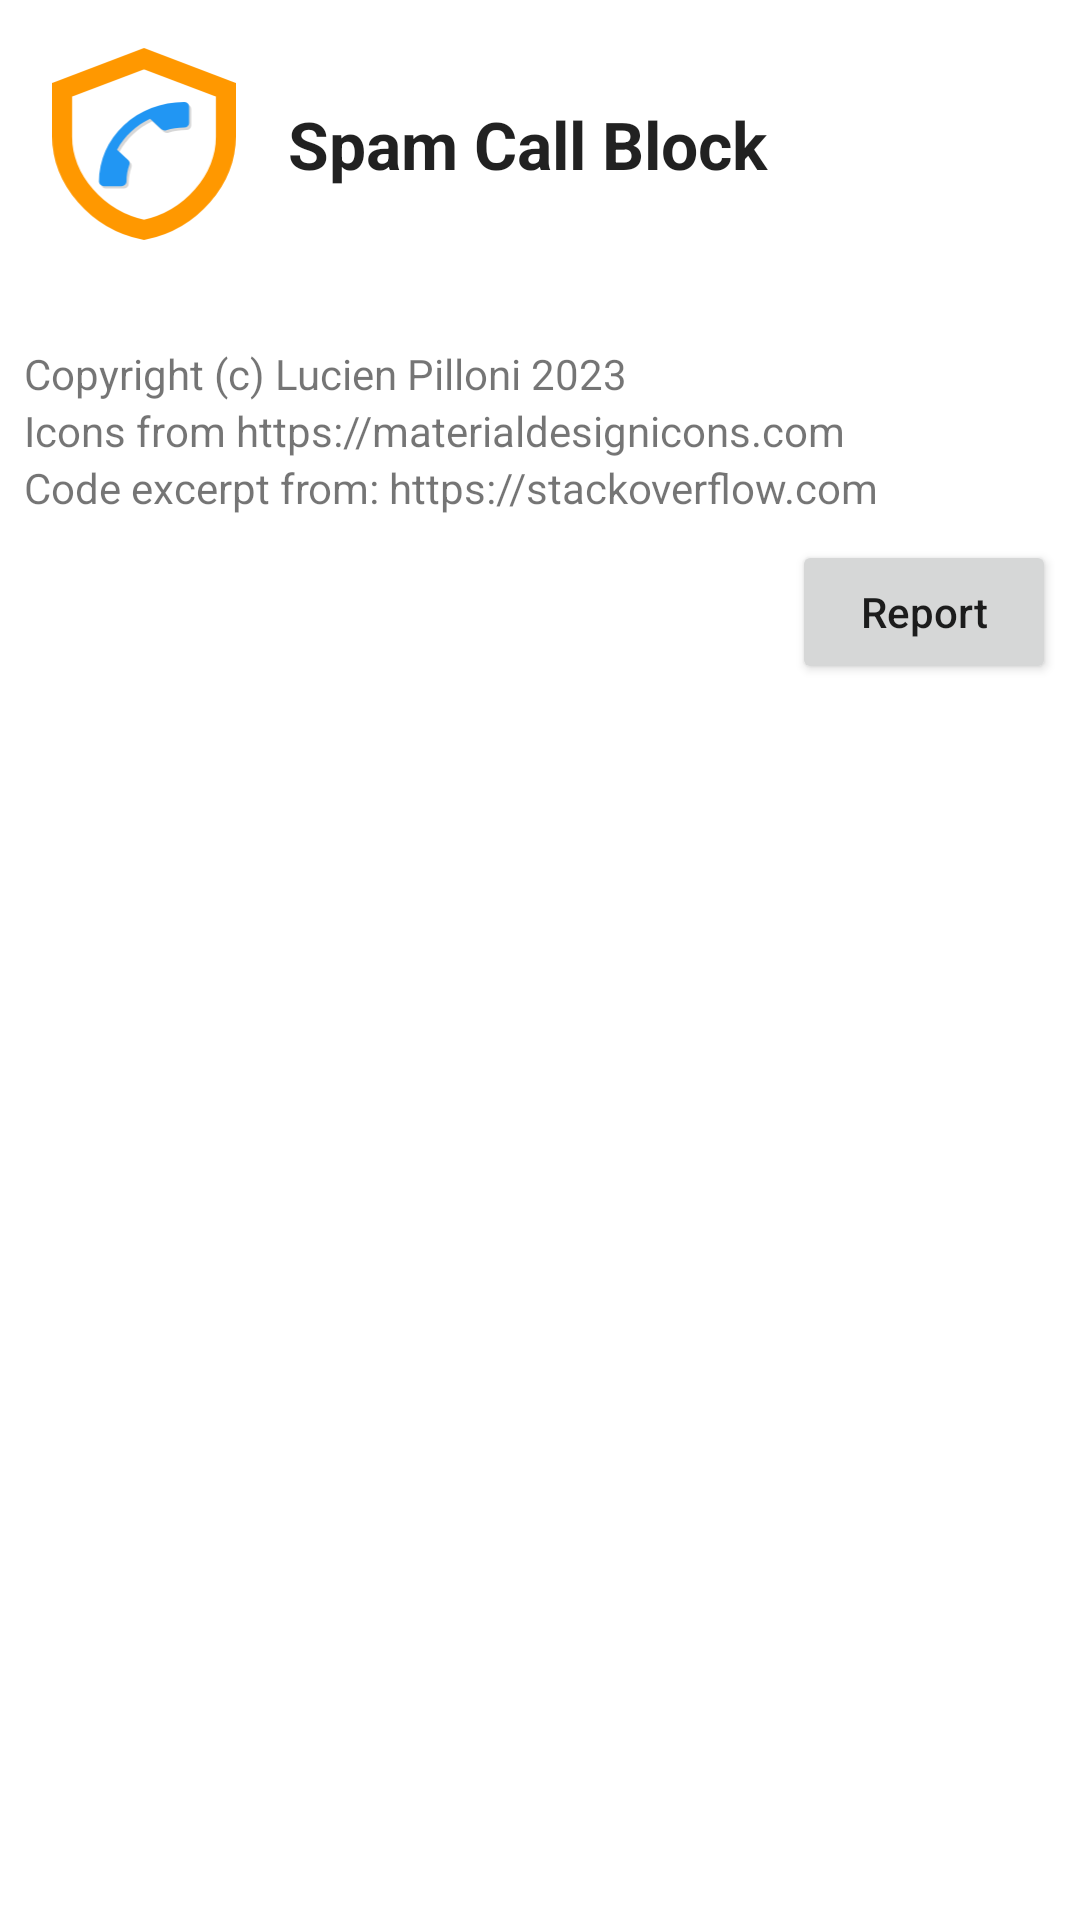

Screen size 1080px×1920px. Icon name, then its box in pixels as bbox=(x1, y1, x2, y2):
application: bbox=(52, 48, 236, 240)
